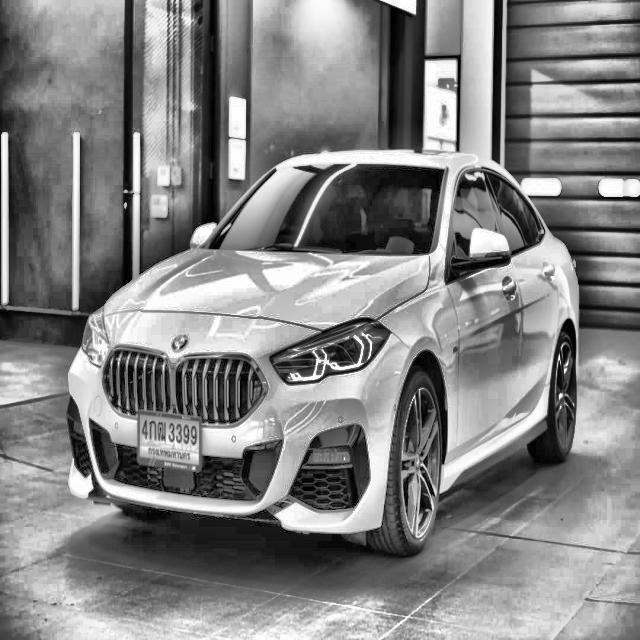license-plate: (135, 408, 202, 475)
